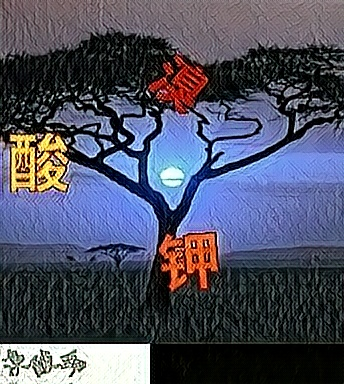BCD8: (158, 229, 220, 293)
CBE1: (7, 129, 69, 193)
E4E5: (148, 52, 210, 116)
